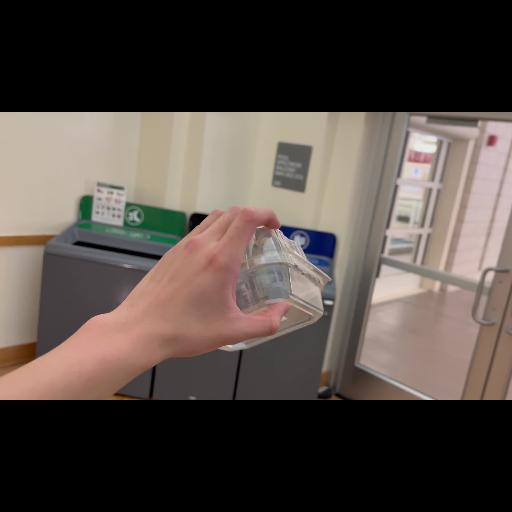small_plastic_container: (220, 227, 334, 351)
